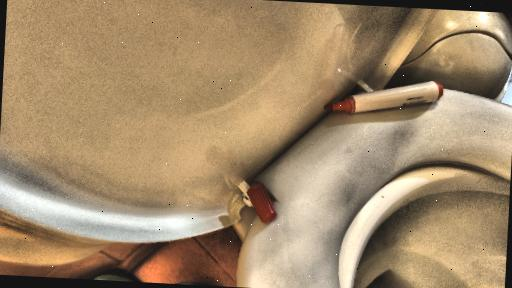marcador rojo: (325, 81, 443, 113)
